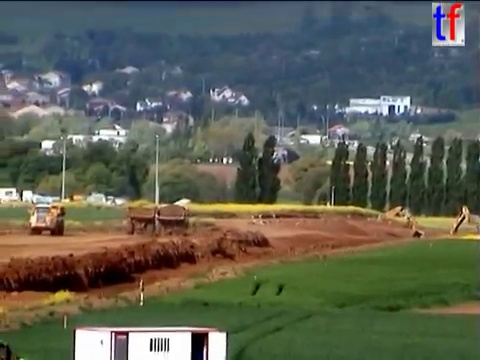excavator: (368, 204, 427, 239), (446, 203, 480, 239)
truck: (124, 203, 171, 237), (27, 200, 67, 237), (155, 203, 192, 238)
